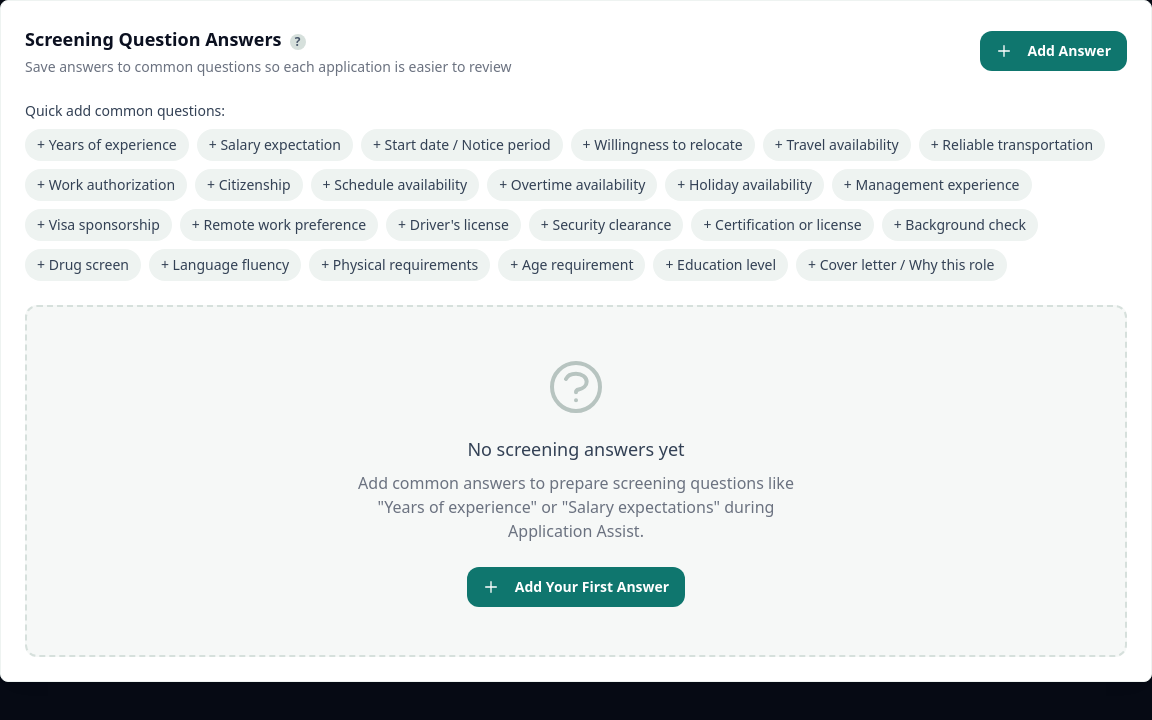
Test: ScreeningAnswersForm › answer input handling › shows hard screening guidance when typed question wording needs exact review
Click the button "Add Answer" at (1053, 51), box left=980, top=31, right=1127, bottom=71
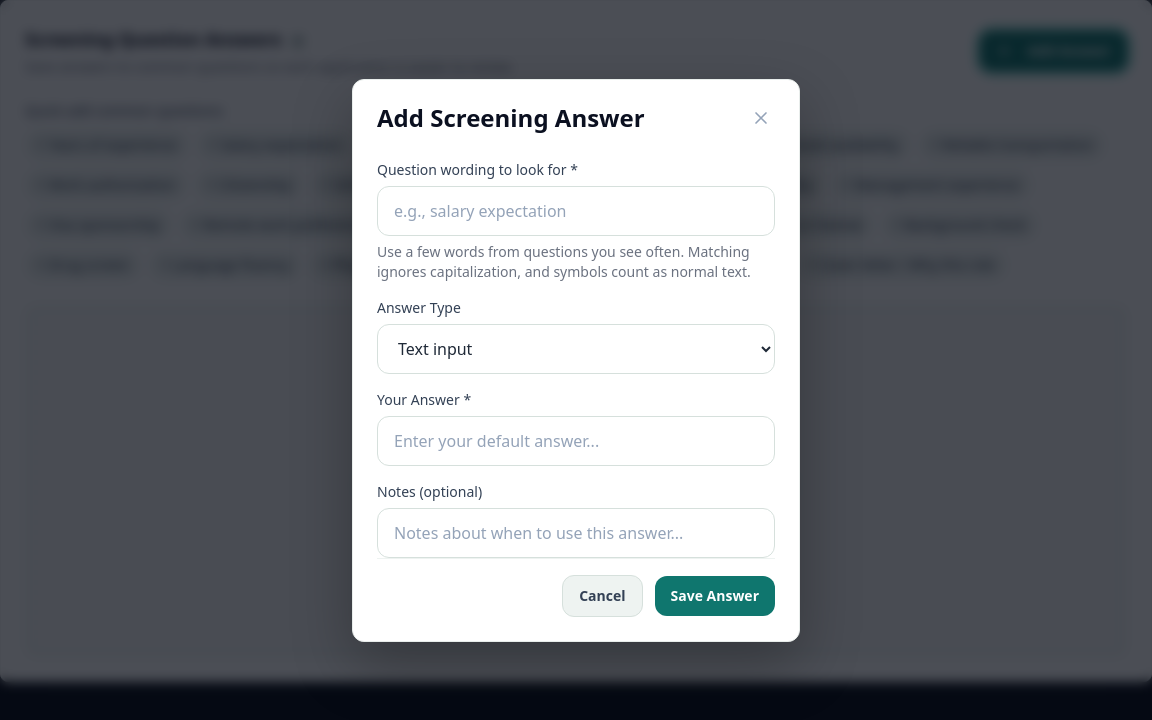
Type "US citizen" into the field labelled "Question wording to look for *" at (576, 210), box left=377, top=186, right=775, bottom=236
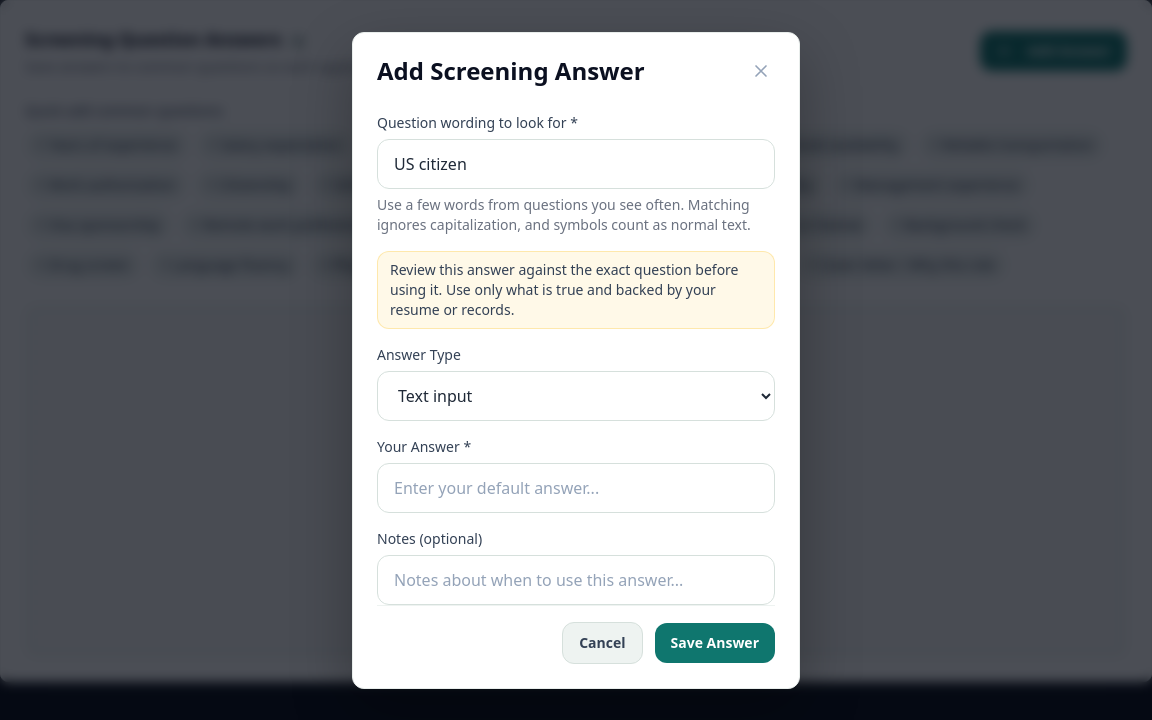
Check: the text with test id "hard-screening-answer-guidance" shows "Use only what is true and backed by your resume or records.", box left=390, top=260, right=738, bottom=318
